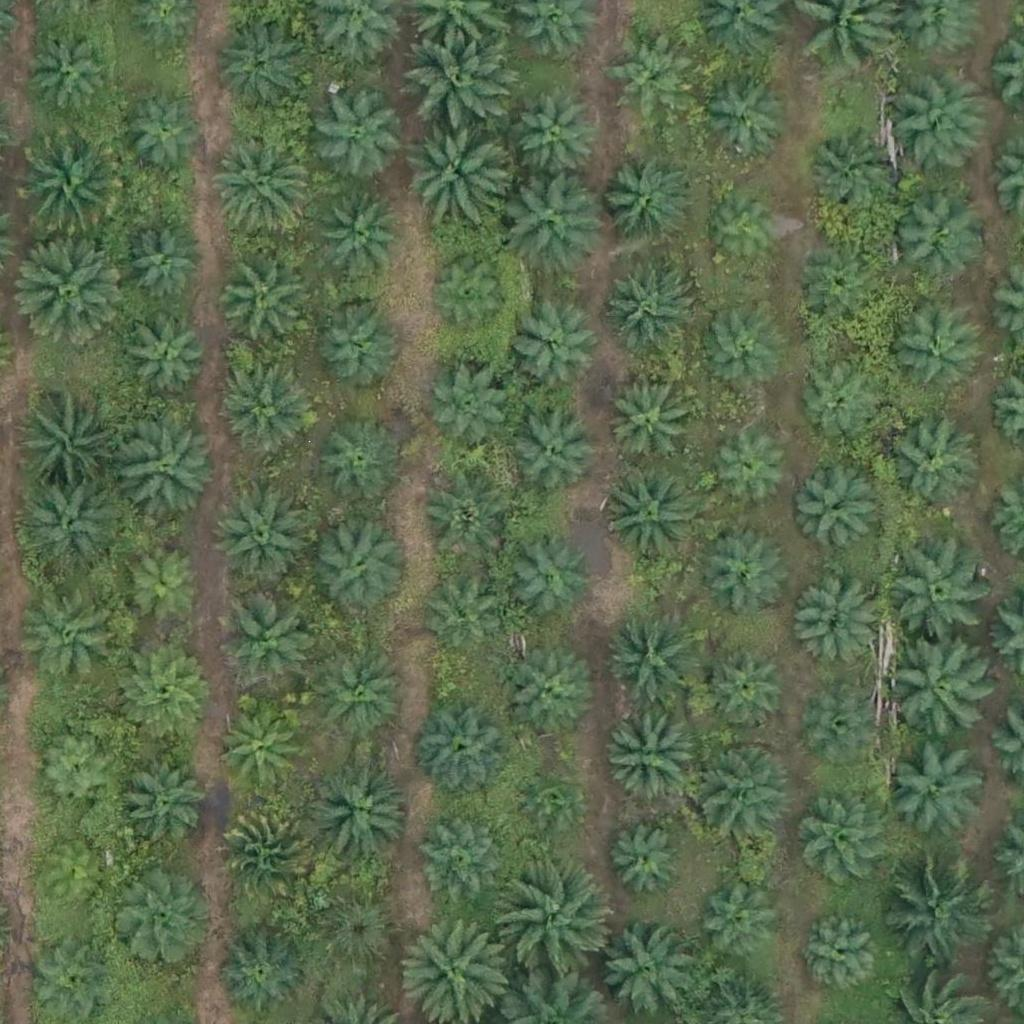Kelapa_Sawit: (882, 635, 995, 749), (882, 859, 994, 973), (501, 864, 613, 978), (16, 131, 128, 244), (12, 230, 124, 343), (894, 740, 994, 841), (688, 740, 788, 841), (415, 700, 515, 801), (307, 757, 407, 858), (24, 477, 124, 578), (20, 591, 120, 692), (117, 638, 217, 739), (120, 414, 220, 515), (216, 586, 316, 687), (213, 129, 313, 230), (219, 360, 319, 461), (309, 509, 409, 610), (307, 642, 407, 743), (403, 116, 503, 217), (506, 172, 606, 273), (601, 468, 701, 569), (604, 608, 704, 709), (806, 122, 906, 223), (879, 418, 979, 519), (894, 543, 994, 644), (602, 707, 702, 807), (596, 923, 696, 1023), (111, 869, 211, 969), (220, 804, 320, 904), (211, 488, 311, 588), (410, 34, 510, 134), (696, 69, 796, 169), (889, 76, 989, 176), (795, 910, 883, 999), (605, 161, 693, 250), (803, 800, 891, 888), (697, 873, 785, 961), (309, 890, 397, 978), (418, 821, 506, 909), (214, 706, 302, 794), (219, 929, 307, 1017), (220, 29, 308, 117), (314, 300, 402, 388), (315, 420, 403, 508), (429, 364, 517, 452), (422, 478, 510, 566), (515, 96, 603, 184), (507, 307, 595, 395), (511, 408, 599, 496), (503, 537, 591, 625), (608, 31, 696, 119), (605, 267, 693, 355), (801, 246, 889, 334), (892, 194, 980, 282), (888, 306, 976, 394), (32, 727, 120, 815), (121, 315, 208, 404), (317, 186, 404, 275), (114, 757, 201, 845), (30, 26, 117, 114), (23, 413, 110, 501), (24, 840, 111, 928), (122, 537, 209, 625), (120, 90, 207, 178), (125, 220, 212, 308), (219, 258, 306, 346), (317, 96, 404, 184), (420, 573, 507, 661), (423, 255, 510, 343), (510, 653, 597, 741), (608, 381, 695, 469), (703, 645, 790, 733), (703, 527, 790, 615), (710, 423, 797, 511), (698, 300, 785, 388), (797, 363, 884, 451), (796, 472, 883, 560), (793, 580, 880, 668), (708, 194, 783, 270), (607, 823, 682, 899), (807, 690, 882, 766), (518, 767, 580, 830)
